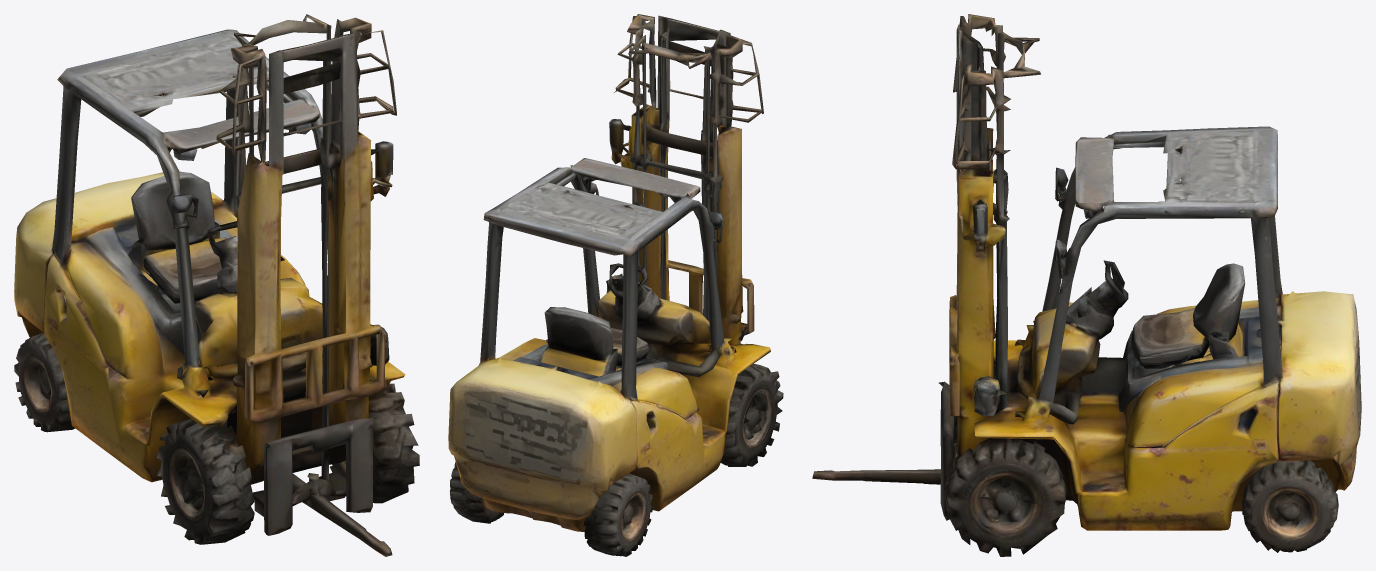
The model's file is pt_forklift.glb.
3 views of the same model, side by side, from view 1: azimuth 30°, elevation 25°; view 2: azimuth 150°, elevation 25°; view 3: azimuth 270°, elevation 25° (orthographic). The views are drawn at different scales.
Parts seen in each view (by area): view 1: tripo_node_c349d2eb-cb8e-4d53-9a95-70fe93678780; view 2: tripo_node_c349d2eb-cb8e-4d53-9a95-70fe93678780; view 3: tripo_node_c349d2eb-cb8e-4d53-9a95-70fe93678780.
Boxes of the visible parts, x1,y1,x2,y2 form: tripo_node_c349d2eb-cb8e-4d53-9a95-70fe93678780: (14,14,419,556); tripo_node_c349d2eb-cb8e-4d53-9a95-70fe93678780: (448,14,783,556); tripo_node_c349d2eb-cb8e-4d53-9a95-70fe93678780: (812,14,1361,556).
Size of the model in its own units: 0.4079 by 0.9237 by 0.9803.
1 material, 1 textured.
